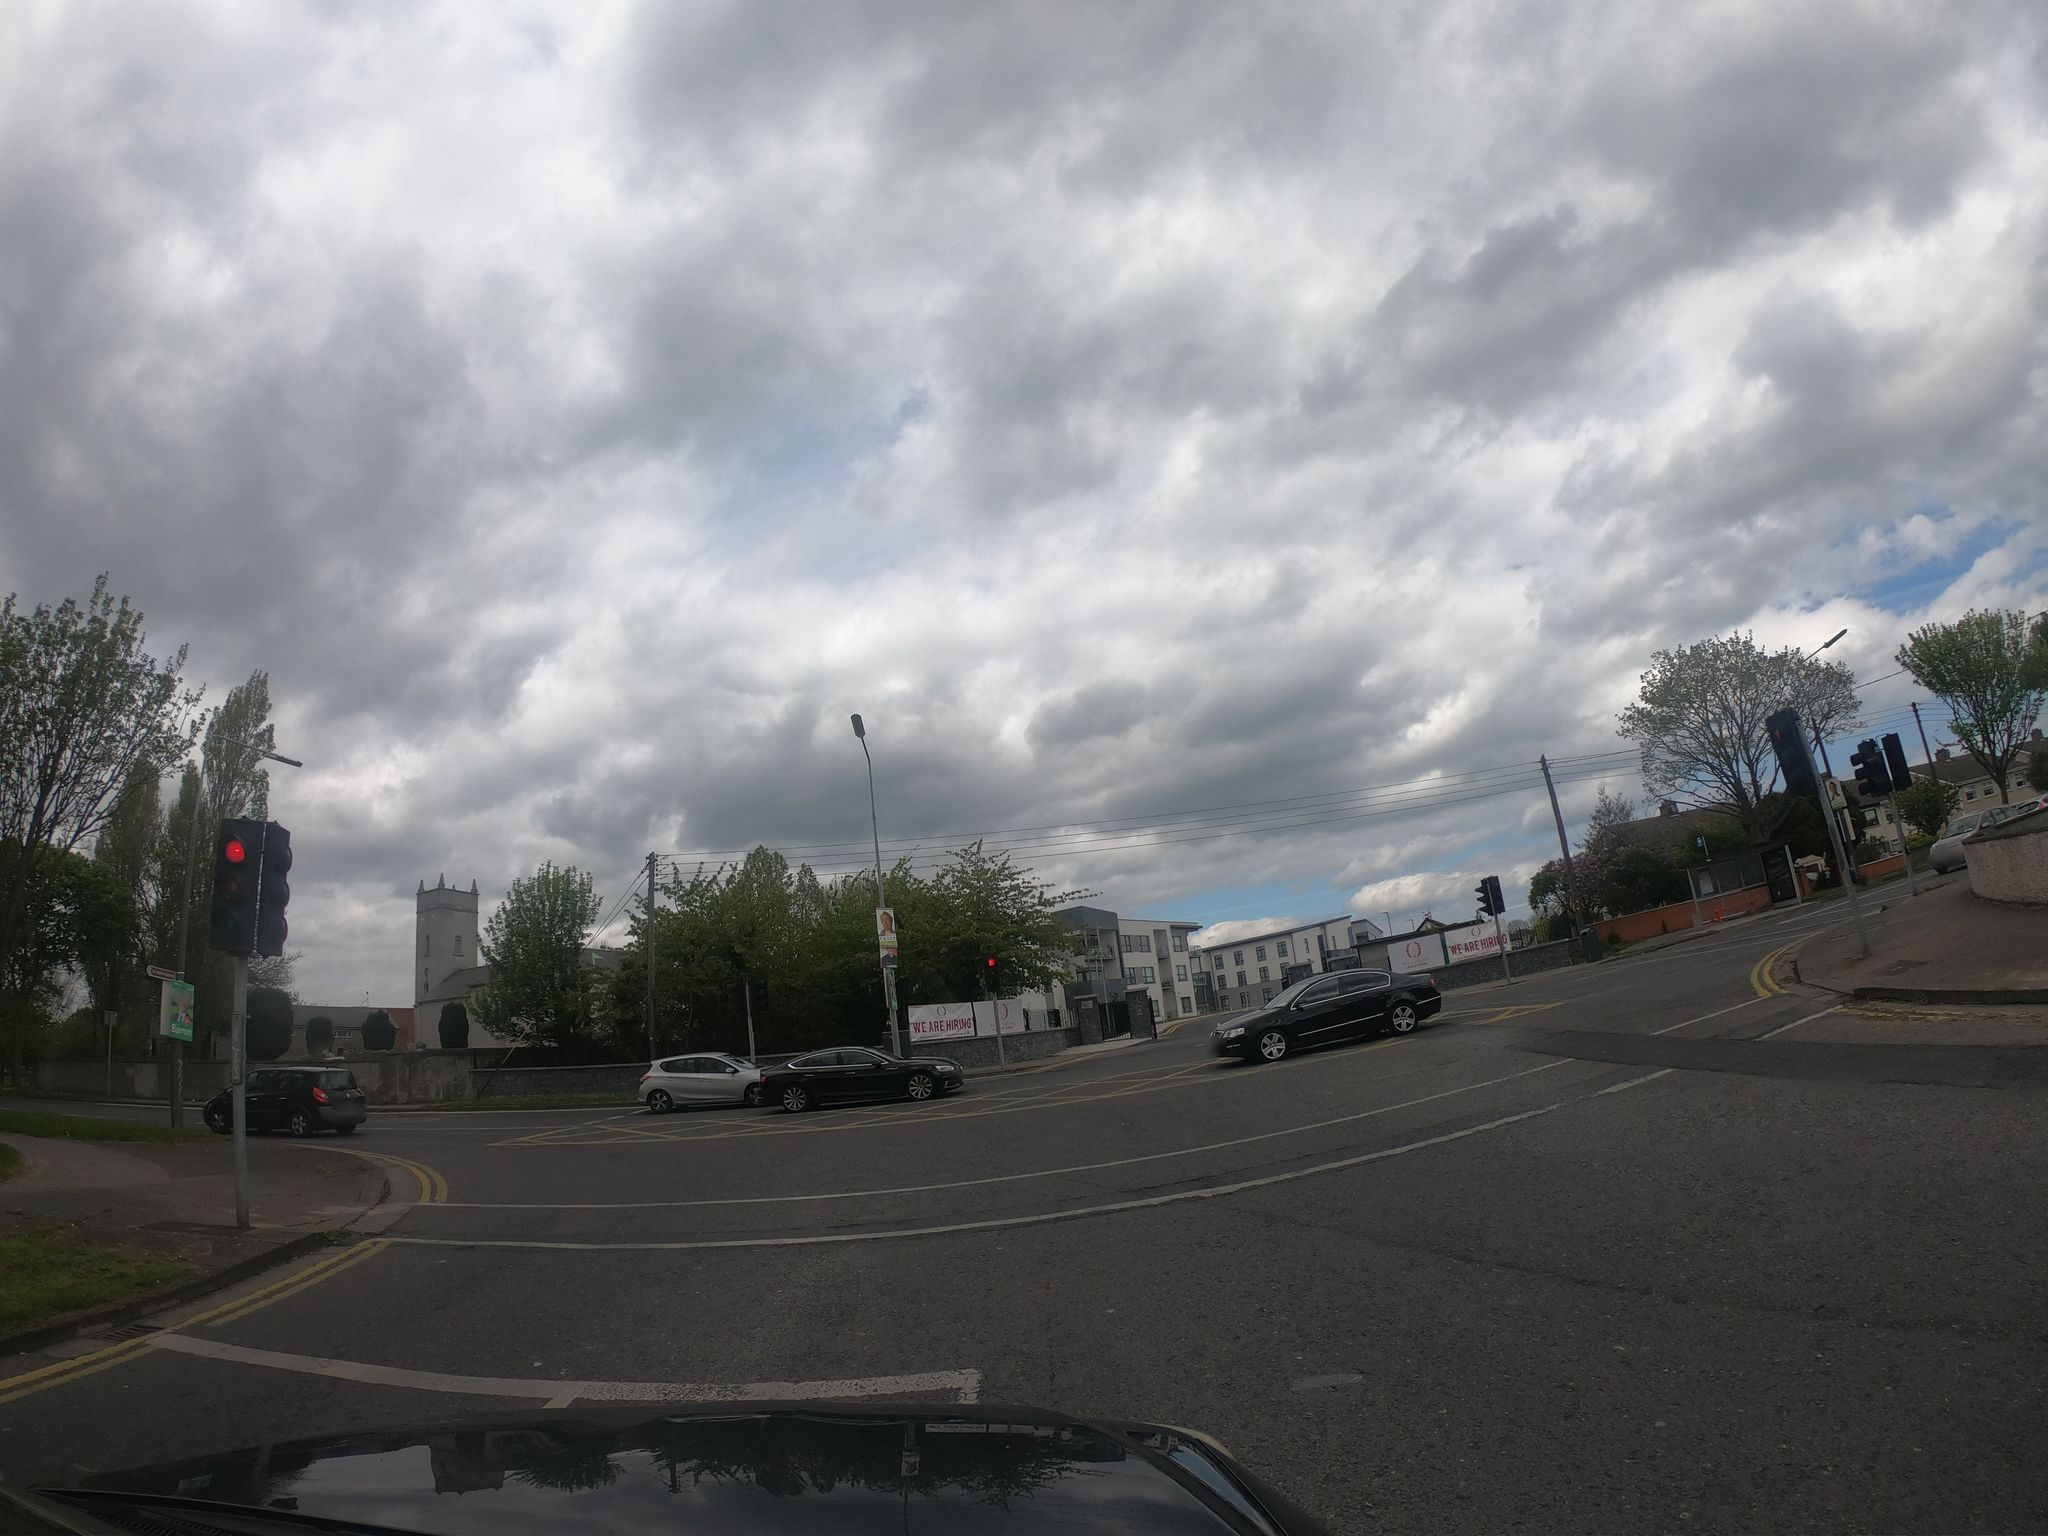vinyl banner: (892, 981, 989, 1055), (1430, 910, 1524, 962)
